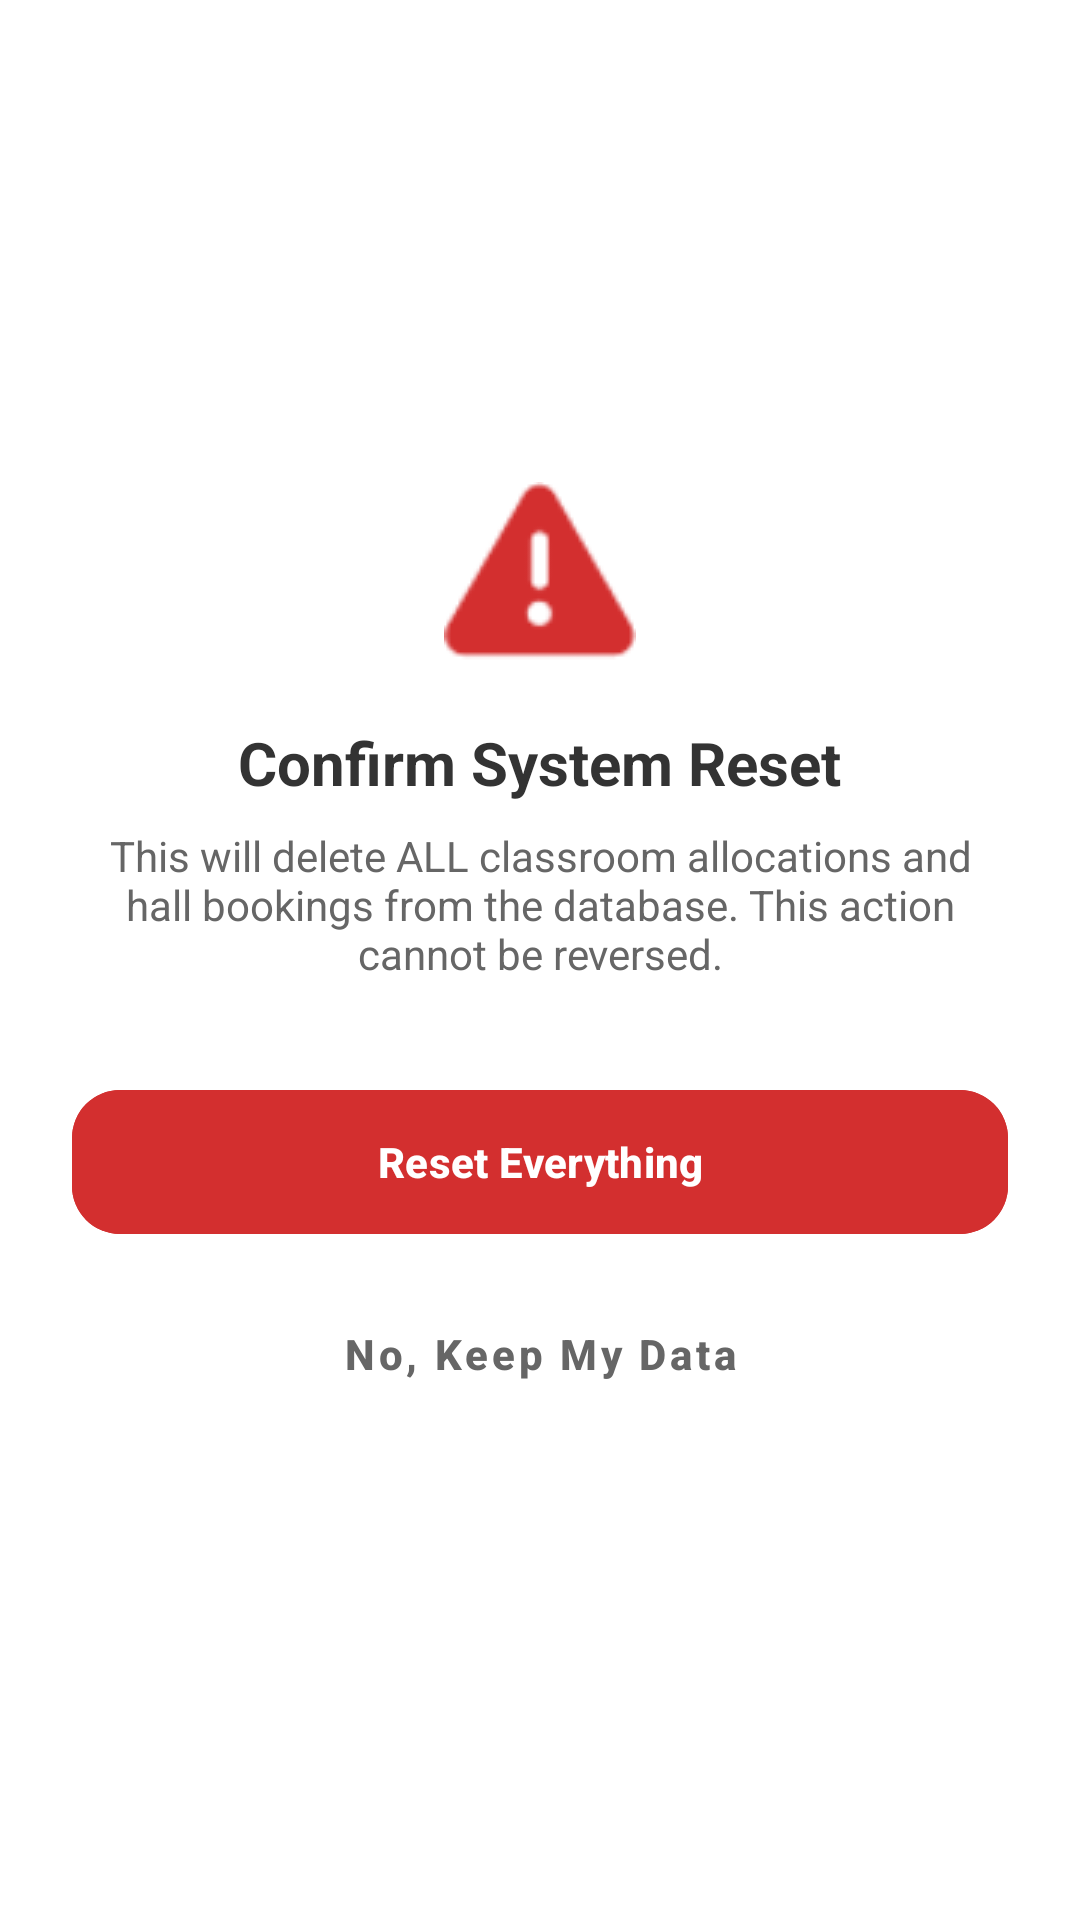

Icon click points for this 1080 x 1920 phone screenshot, format [x,y]:
alert: [540,569]
